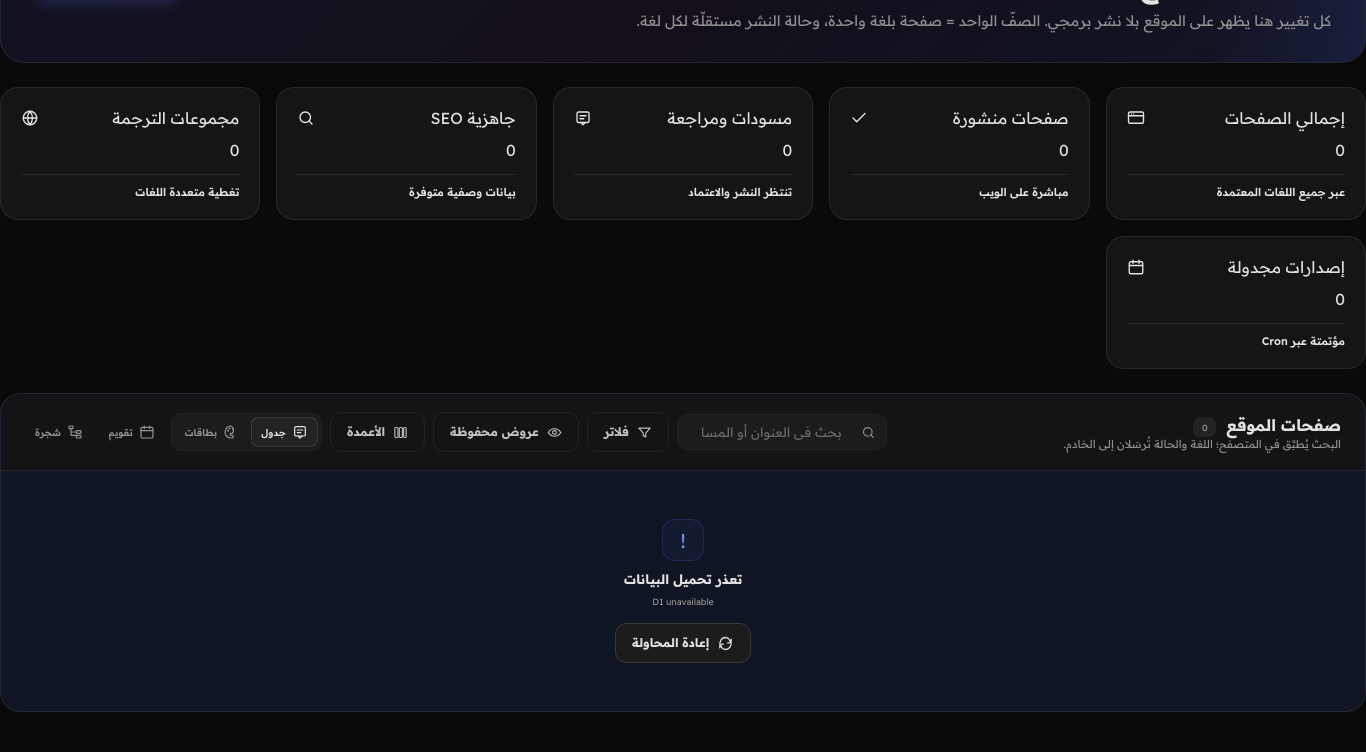
WebsitePagesPage › a failed load offers a retry and reports the server message
(page scrolled)
expect the text "D1 unavailable" is shown: met, box 652,594 -> 714,609
Click the button "إعادة المحاولة".
click(683, 643)  # box 615,623 -> 751,663
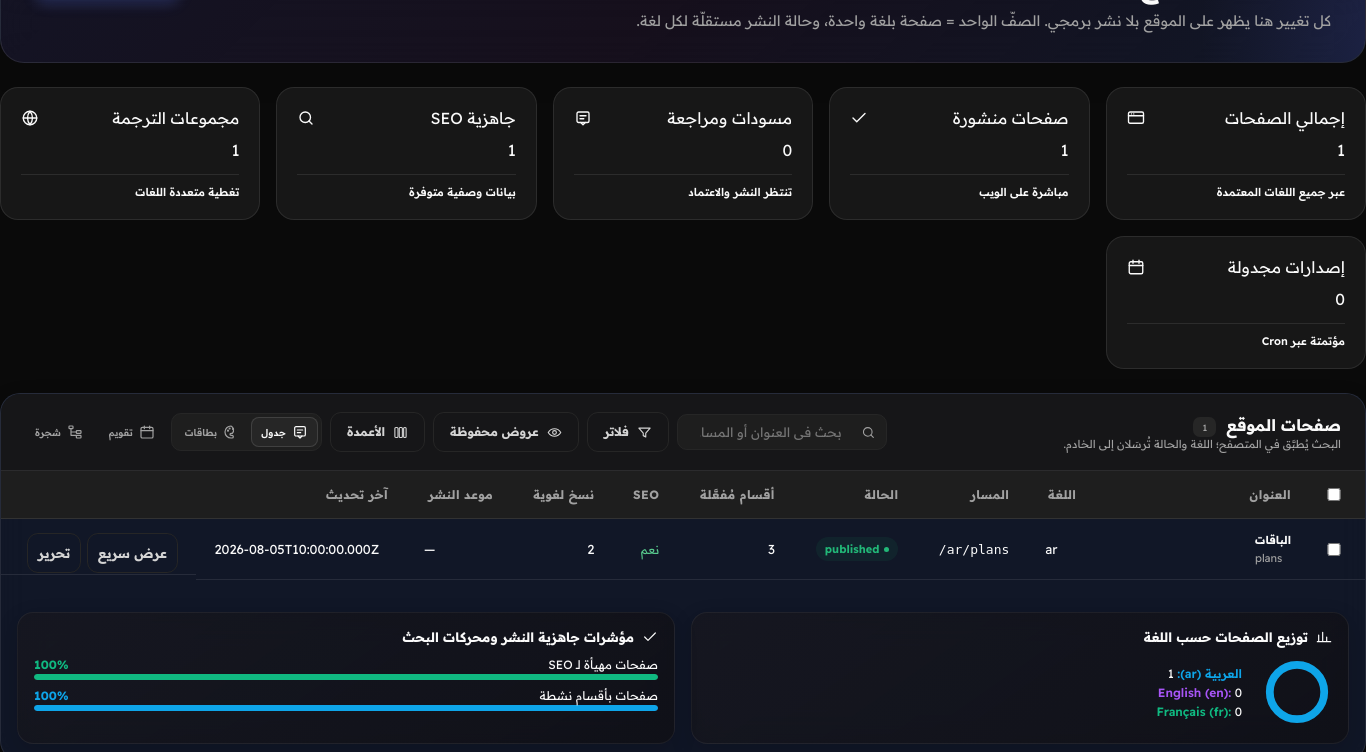
expect the text "/ar/plans" is shown: met, box 939,542 -> 1009,557
